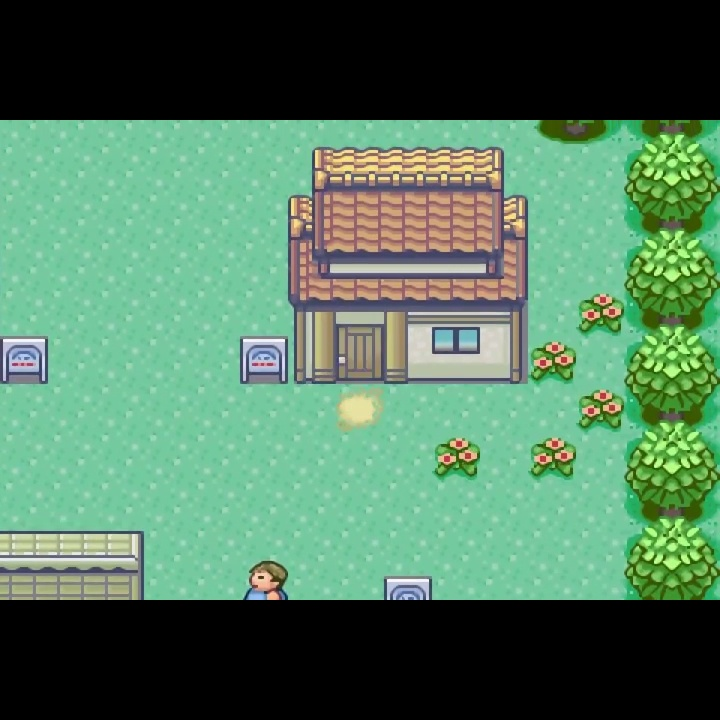house: (284, 145, 531, 388)
npc: (239, 558, 289, 598)
wall: (625, 324, 720, 430), (625, 227, 720, 330), (626, 419, 720, 523), (623, 133, 720, 233), (624, 513, 720, 599), (623, 119, 720, 145), (535, 121, 623, 144)
